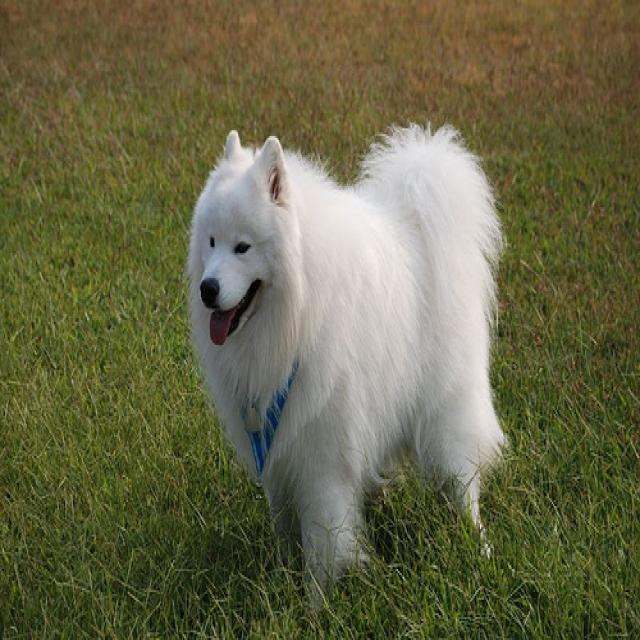dog-samoyed: (182, 125, 511, 583)
